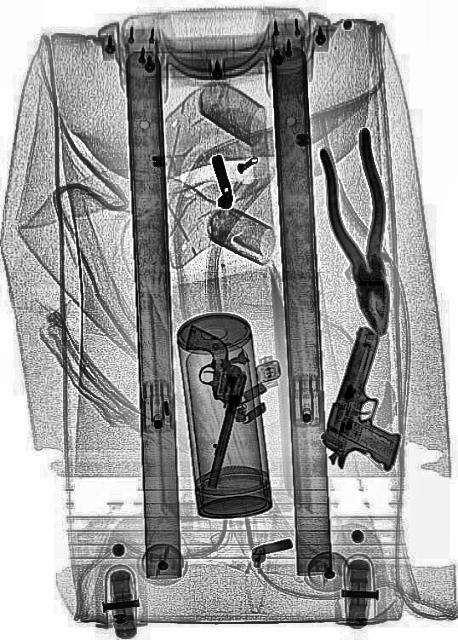Gun: (312, 321, 429, 493), (154, 322, 254, 492)
Pliers: (312, 126, 412, 346)
